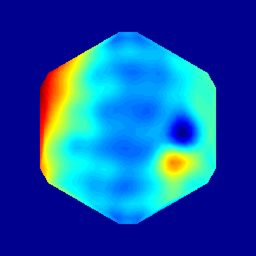ship: (174, 121, 190, 149)
wave: (169, 142, 185, 176)
